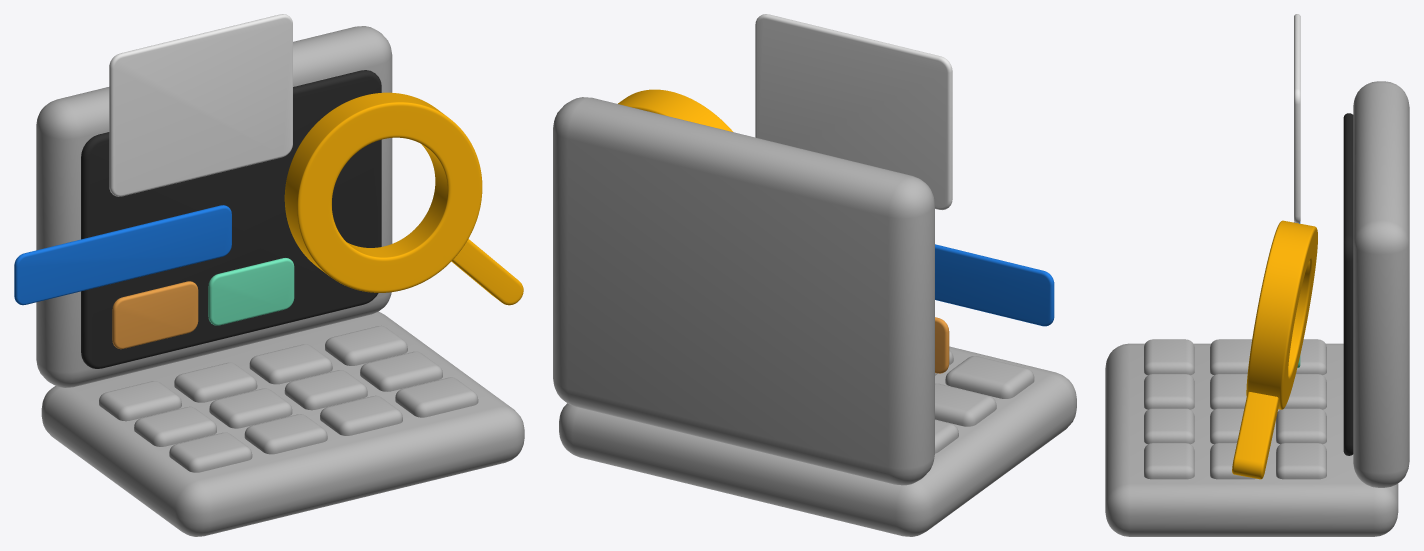
Rendered from searching-file-animated-3d-icon-817295794047.glb.
3 renders of one model, left to right at view 1: azimuth 30°, elevation 25°; view 2: azimuth 150°, elevation 25°; view 3: azimuth 270°, elevation 25°, orthographic. The views are drawn at different scales.
Parts seen in each view (by area): view 1: Plane.014, Plane.016, Plane.017, Plane.018, Circle.002, Plane.015, Plane.019, Plane.020, Plane.021; view 2: Plane.015, Plane.014, Plane.018, Plane.019, Plane.017, Circle.002, Plane.020; view 3: Plane.014, Plane.015, Plane.017, Circle.002, Plane.016, Plane.018.
Boxes of the visible parts, box(x1,y1,x2,y2) form: Plane.014: box(41, 311, 524, 536); Plane.016: box(81, 70, 381, 368); Plane.017: box(99, 325, 478, 472); Plane.018: box(109, 14, 292, 196); Circle.002: box(284, 92, 523, 305); Plane.015: box(36, 26, 392, 387); Plane.019: box(14, 205, 231, 305); Plane.020: box(112, 281, 198, 349); Plane.021: box(208, 258, 294, 325); Plane.015: box(553, 97, 934, 485); Plane.014: box(559, 346, 1076, 536); Plane.018: box(755, 14, 952, 210); Plane.019: box(935, 244, 1054, 326); Plane.017: box(935, 350, 1034, 453); Circle.002: box(618, 89, 732, 131); Plane.020: box(935, 317, 949, 373); Plane.014: box(1105, 343, 1398, 536); Plane.015: box(1353, 81, 1409, 487); Plane.017: box(1144, 339, 1326, 479); Circle.002: box(1232, 220, 1317, 479); Plane.016: box(1343, 113, 1353, 455); Plane.018: box(1294, 14, 1300, 223).
Bounding box in the file's own units: 2.77 × 2.28 × 1.62.
